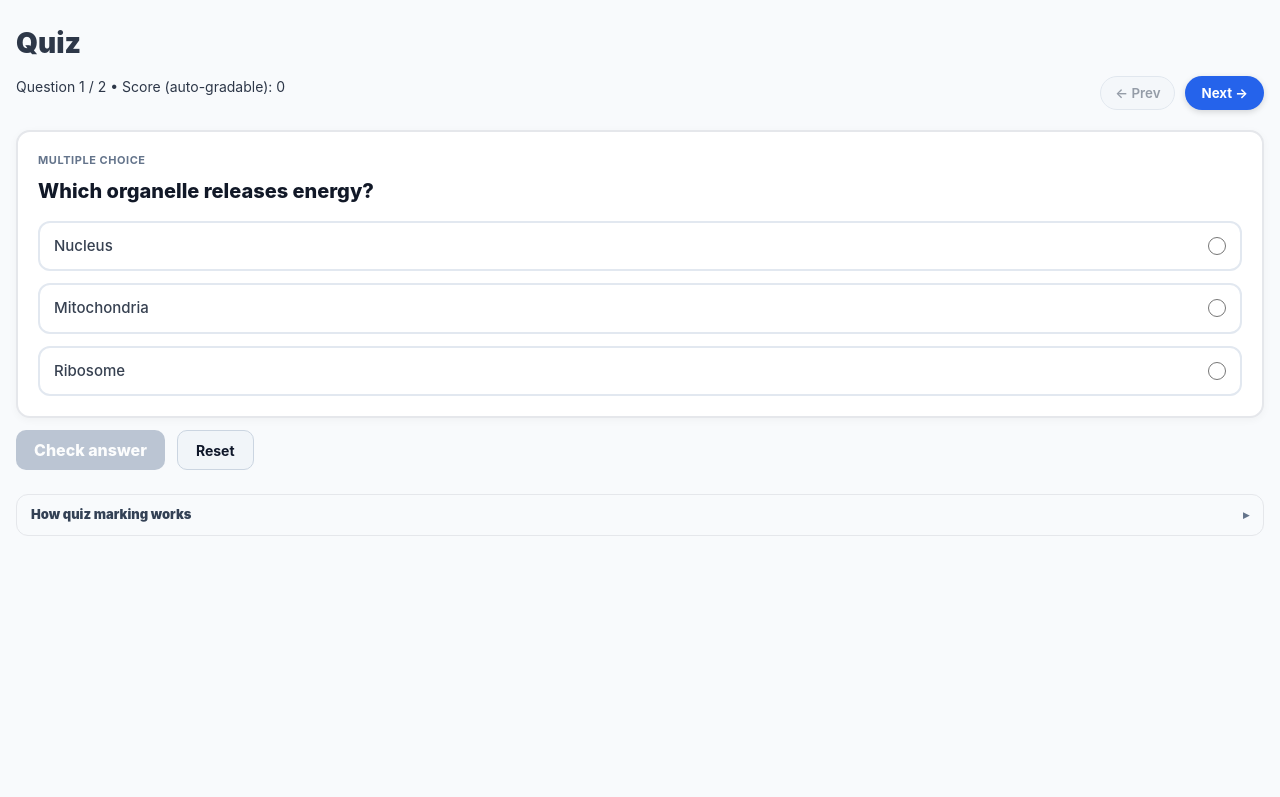
QuizView MCQ feedback › reset clears feedback and next question starts clean
Step 1. Click the radio button named "Nucleus" → (1217, 246), box left=1208, top=237, right=1226, bottom=255
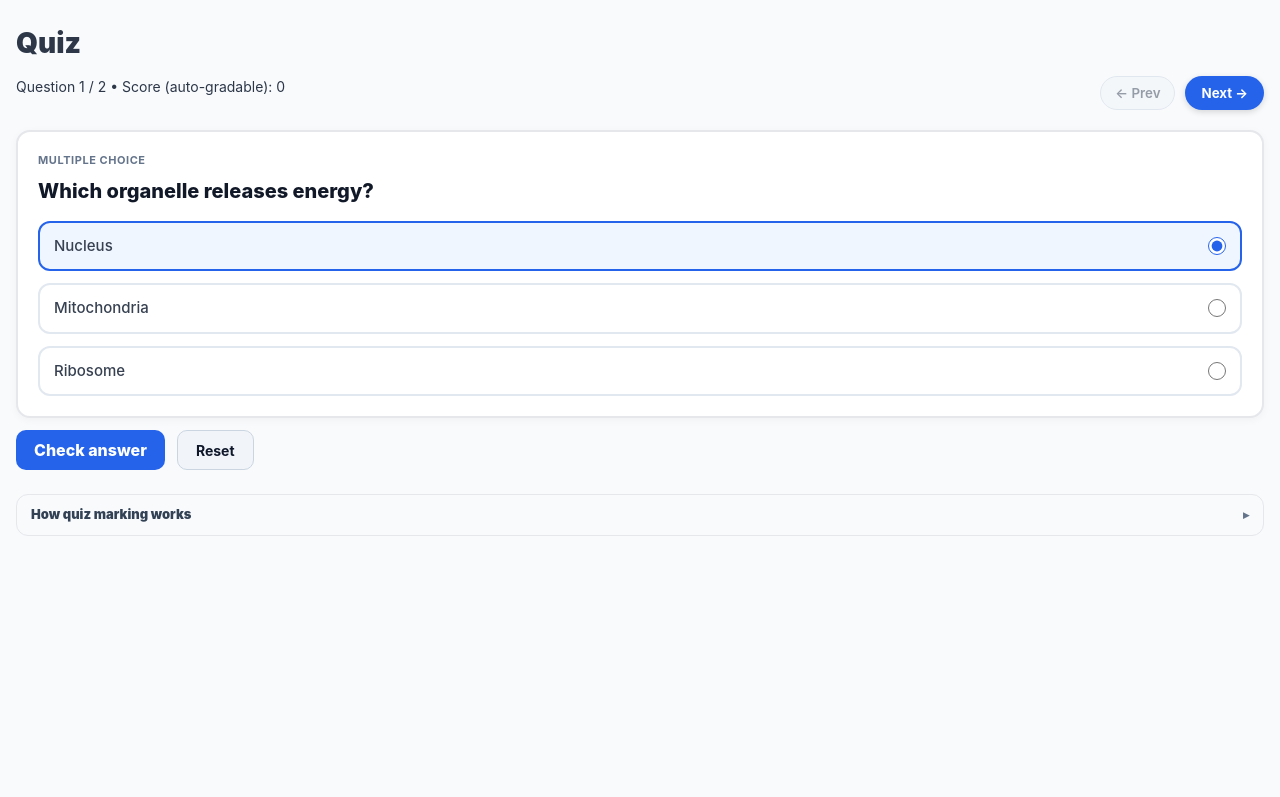
Step 2. Click the button "Check answer" → (90, 450), box left=16, top=430, right=165, bottom=470
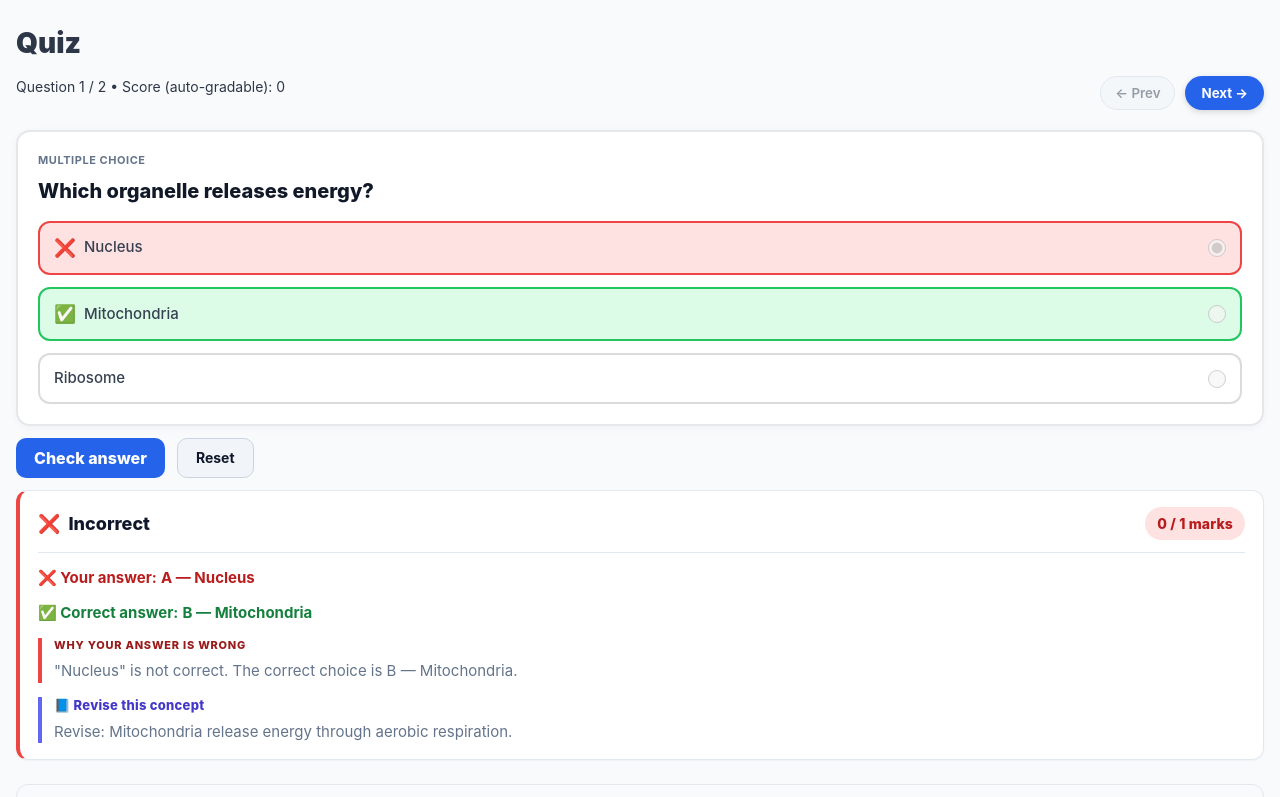
Check: the element with test id "answer-feedback-panel" is shown, box left=16, top=490, right=1264, bottom=760
Step 3. Click the button "Reset" → (215, 458), box left=177, top=438, right=254, bottom=478
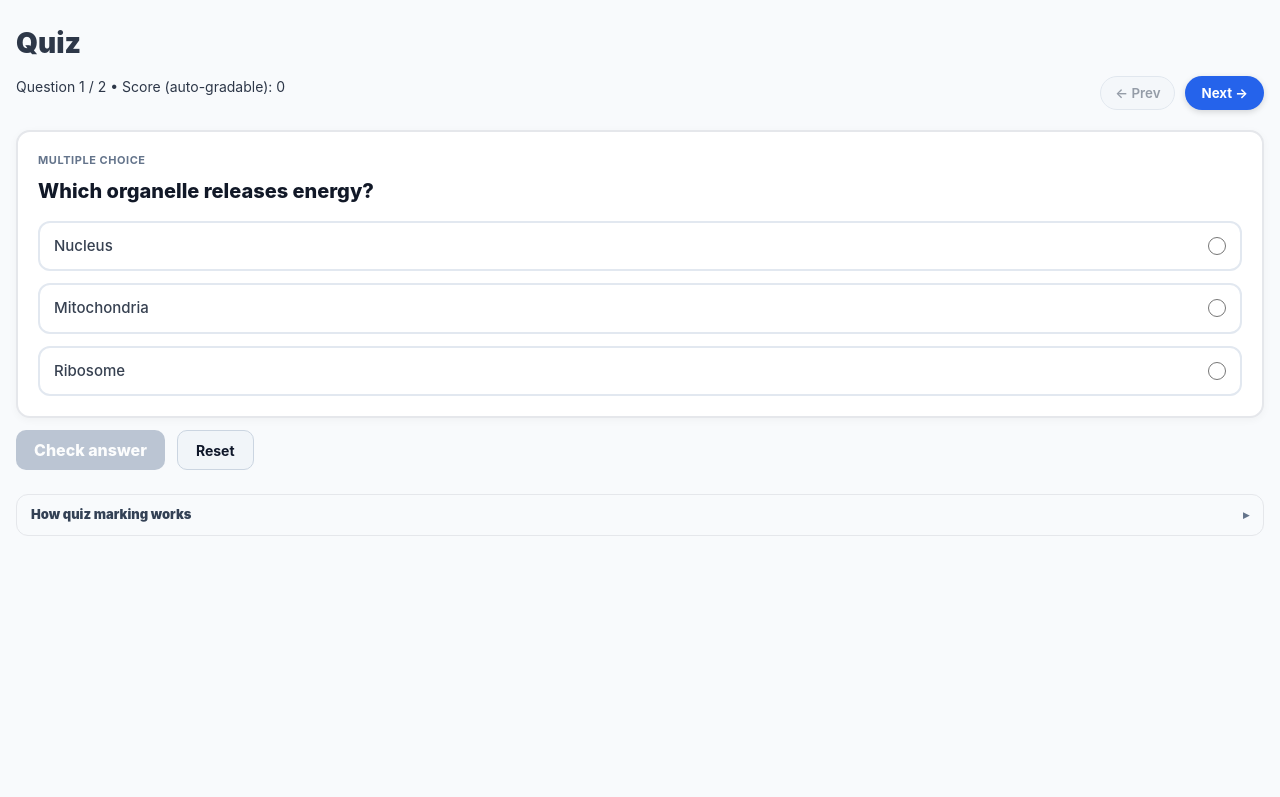
Check: the element with test id "answer-feedback-panel" is gone
Step 4. Click the button "Next →" → (1225, 93), box left=1186, top=76, right=1264, bottom=110
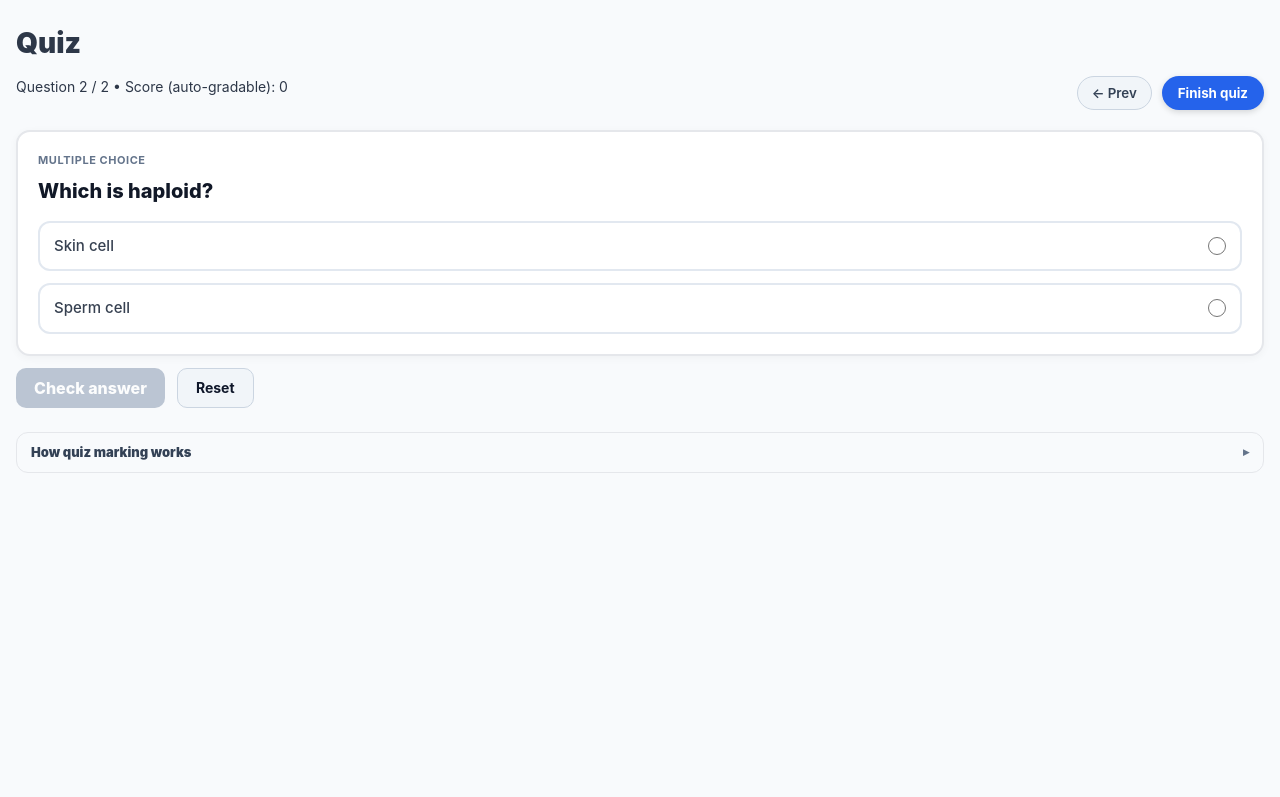
Check: the text "Which is haploid?" is shown, box left=38, top=178, right=213, bottom=202
